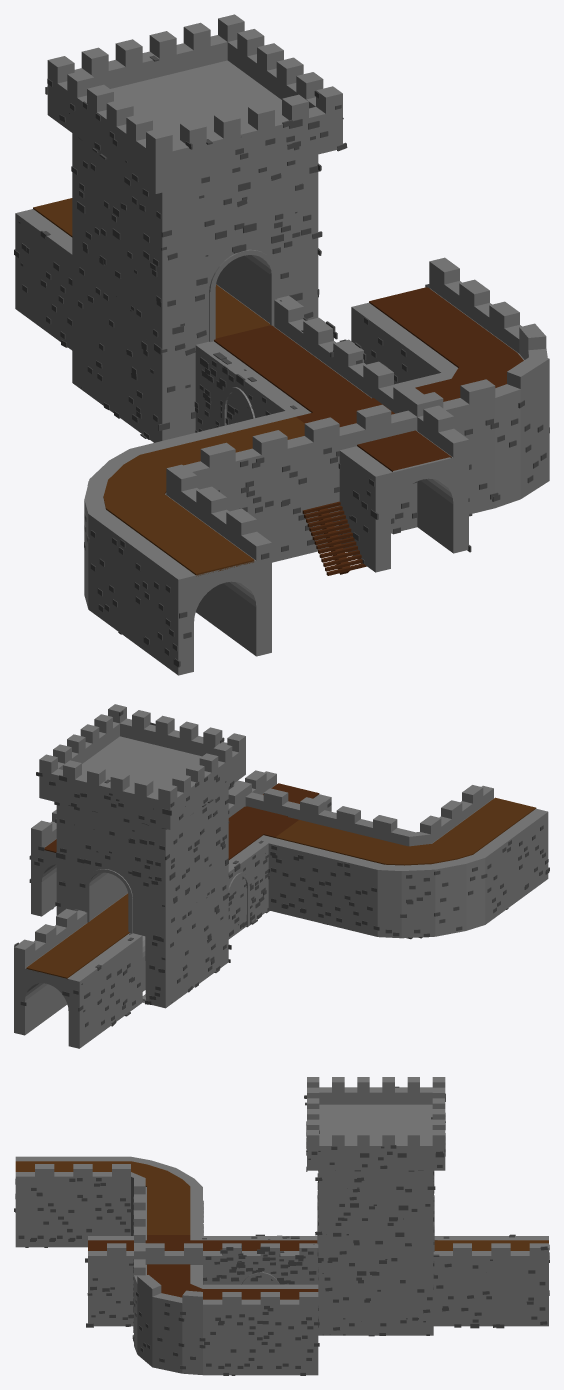
File: MBS_CityWalls.fbx_Scene_Master_Collection.fbx
3 renders of one model, top to bottom at view 1: azimuth 30°, elevation 25°; view 2: azimuth 150°, elevation 25°; view 3: azimuth 270°, elevation 25°, orthographic. The views are drawn at different scales.
Visible parts, largest first — view 1: WallTower01, WallCurveOut01, WallCurveIn01, WallStairs01, Wall01, WallTower02, WallGate02, WallCurveOut02; view 2: WallTower01, WallCurveOut01, WallCurveIn01, Wall01, WallStairs01, WallTower02, WallCurveOut02; view 3: WallTower01, WallCurveIn01, WallCurveOut01, WallStairs01, Wall01, WallTower02, WallGate02, WallCurveIn02, WallCurveOut02, WallGate01.
Part boxes in pixels (bbox=[...]): WallTower01: bbox=[15, 14, 347, 442]; WallCurveOut01: bbox=[84, 411, 339, 675]; WallCurveIn01: bbox=[286, 257, 549, 534]; WallStairs01: bbox=[287, 361, 471, 575]; Wall01: bbox=[195, 296, 366, 431]; WallTower02: bbox=[14, 55, 347, 432]; WallGate02: bbox=[197, 296, 363, 428]; WallCurveOut02: bbox=[84, 456, 339, 666]; WallTower01: bbox=[14, 704, 269, 1048]; WallCurveOut01: bbox=[268, 785, 549, 939]; WallCurveIn01: bbox=[29, 780, 299, 916]; Wall01: bbox=[228, 832, 268, 939]; WallStairs01: bbox=[228, 770, 331, 910]; WallTower02: bbox=[36, 710, 265, 1027]; WallCurveOut02: bbox=[270, 834, 549, 937]; WallTower01: bbox=[203, 1077, 549, 1335]; WallCurveIn01: bbox=[132, 1226, 319, 1375]; WallCurveOut01: bbox=[15, 1156, 203, 1247]; WallStairs01: bbox=[86, 1236, 202, 1327]; Wall01: bbox=[202, 1236, 318, 1284]; WallTower02: bbox=[221, 1086, 549, 1336]; WallGate02: bbox=[203, 1236, 317, 1284]; WallCurveIn02: bbox=[133, 1260, 318, 1375]; WallCurveOut02: bbox=[14, 1178, 203, 1247]; WallGate01: bbox=[222, 1235, 316, 1284].
Size of the model in its own units: 2594 by 1607 by 3720.
